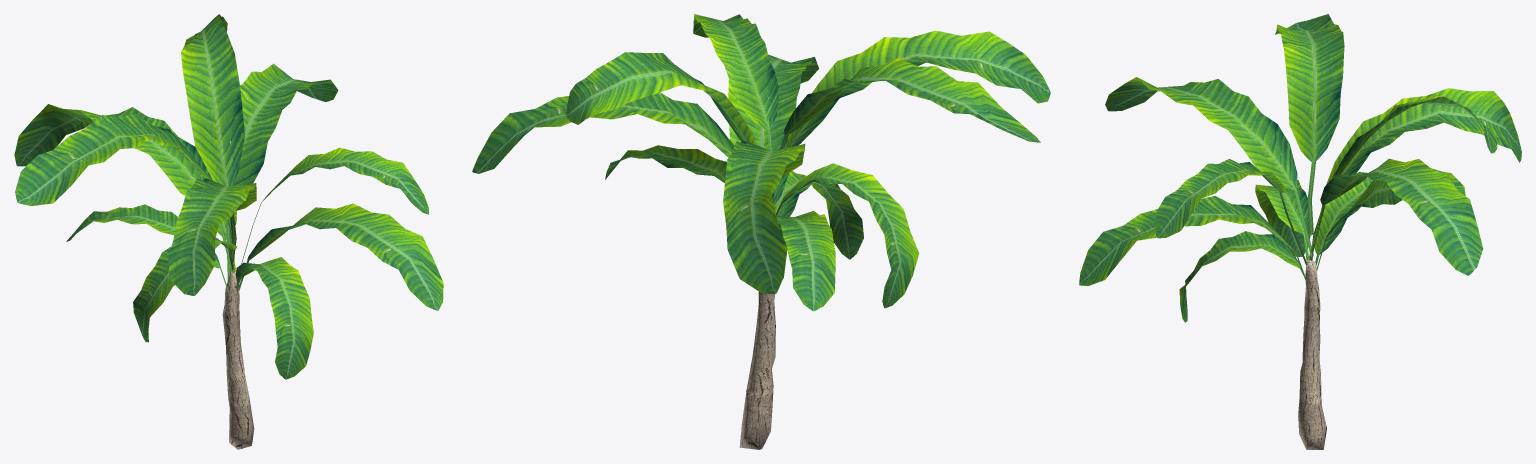
File: Palm_lod_1000.obj
3 views of the same model, side by side, from view 1: azimuth 30°, elevation 25°; view 2: azimuth 150°, elevation 25°; view 3: azimuth 270°, elevation 25° (orthographic). The views are drawn at different scales.
Size of the model in its own units: 34.48 by 30.88 by 33.08.
